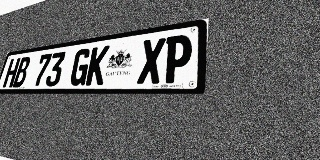3: (44, 51, 66, 87)
7: (32, 53, 52, 87)
B: (12, 56, 31, 87)
G: (68, 48, 92, 86)
H: (2, 58, 21, 88)
K: (85, 45, 110, 85)
P: (162, 33, 193, 83)
X: (137, 37, 166, 84)
